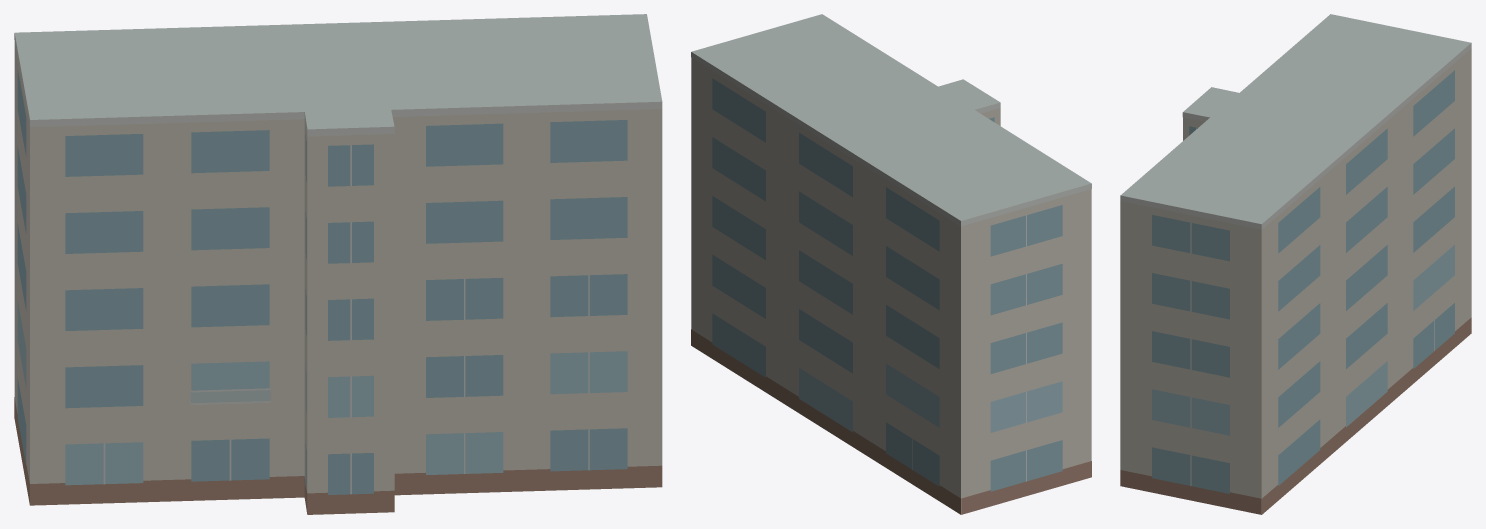
The model's file is survey-upis-32525408.glb.
3 renders of one model, left to right at view 1: azimuth 30°, elevation 25°; view 2: azimuth 150°, elevation 25°; view 3: azimuth 270°, elevation 25°, orthographic. The views are drawn at different scales.
Parts seen in each view (by area): view 1: survey-upis-32525408.tmp; view 2: survey-upis-32525408.tmp; view 3: survey-upis-32525408.tmp.
Part boxes in pixels (x1,y1,x2,y2): survey-upis-32525408.tmp: (14, 14, 662, 514); survey-upis-32525408.tmp: (691, 14, 1091, 514); survey-upis-32525408.tmp: (1120, 14, 1471, 514).
Bounding box in the file's own units: 20.48 × 13.2 × 14.46.
